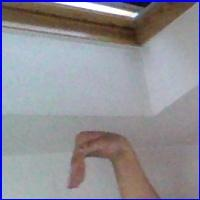del: (70, 124, 139, 189)
